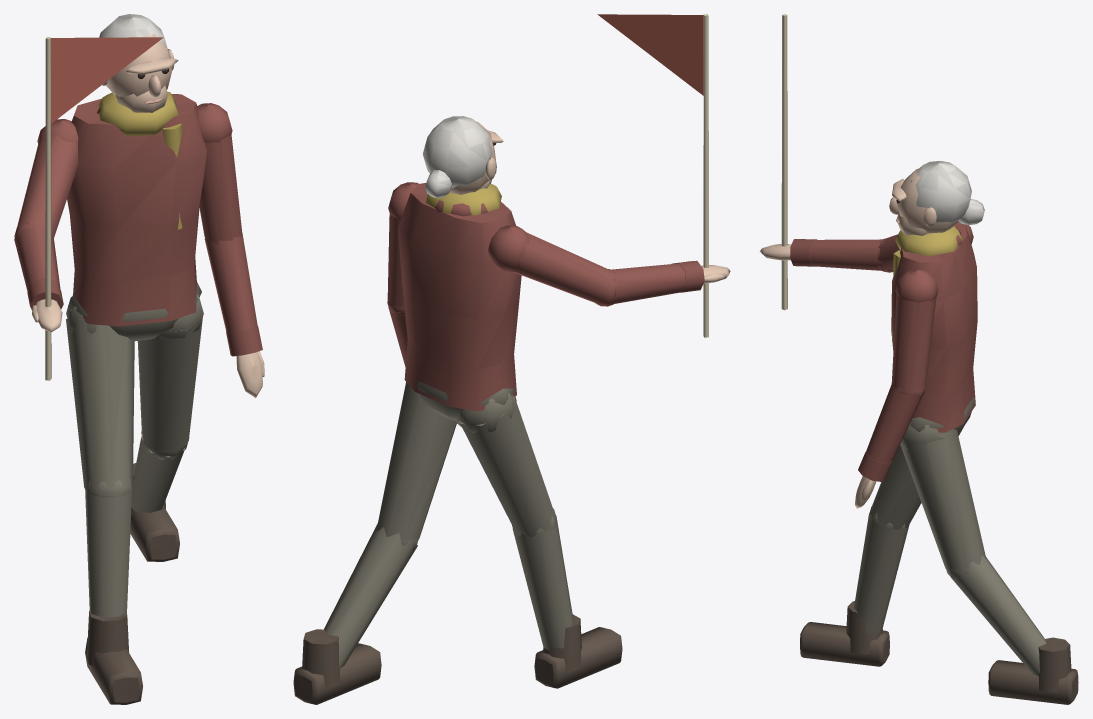
File: crowd_child_a_b.glb
3 views of the same model, side by side, from view 1: azimuth 30°, elevation 25°; view 2: azimuth 150°, elevation 25°; view 3: azimuth 270°, elevation 25° (orthographic). The views are drawn at different scales.
Parts seen in each view (by area): view 1: body; view 2: body; view 3: body.
Boxes of the visible parts, x1,y1,x2,y2 form: body: (14,14,264,704); body: (293,14,730,704); body: (759,14,1078,704).
Size of the model in its own units: 0.5493 by 1.27 by 0.6098.
